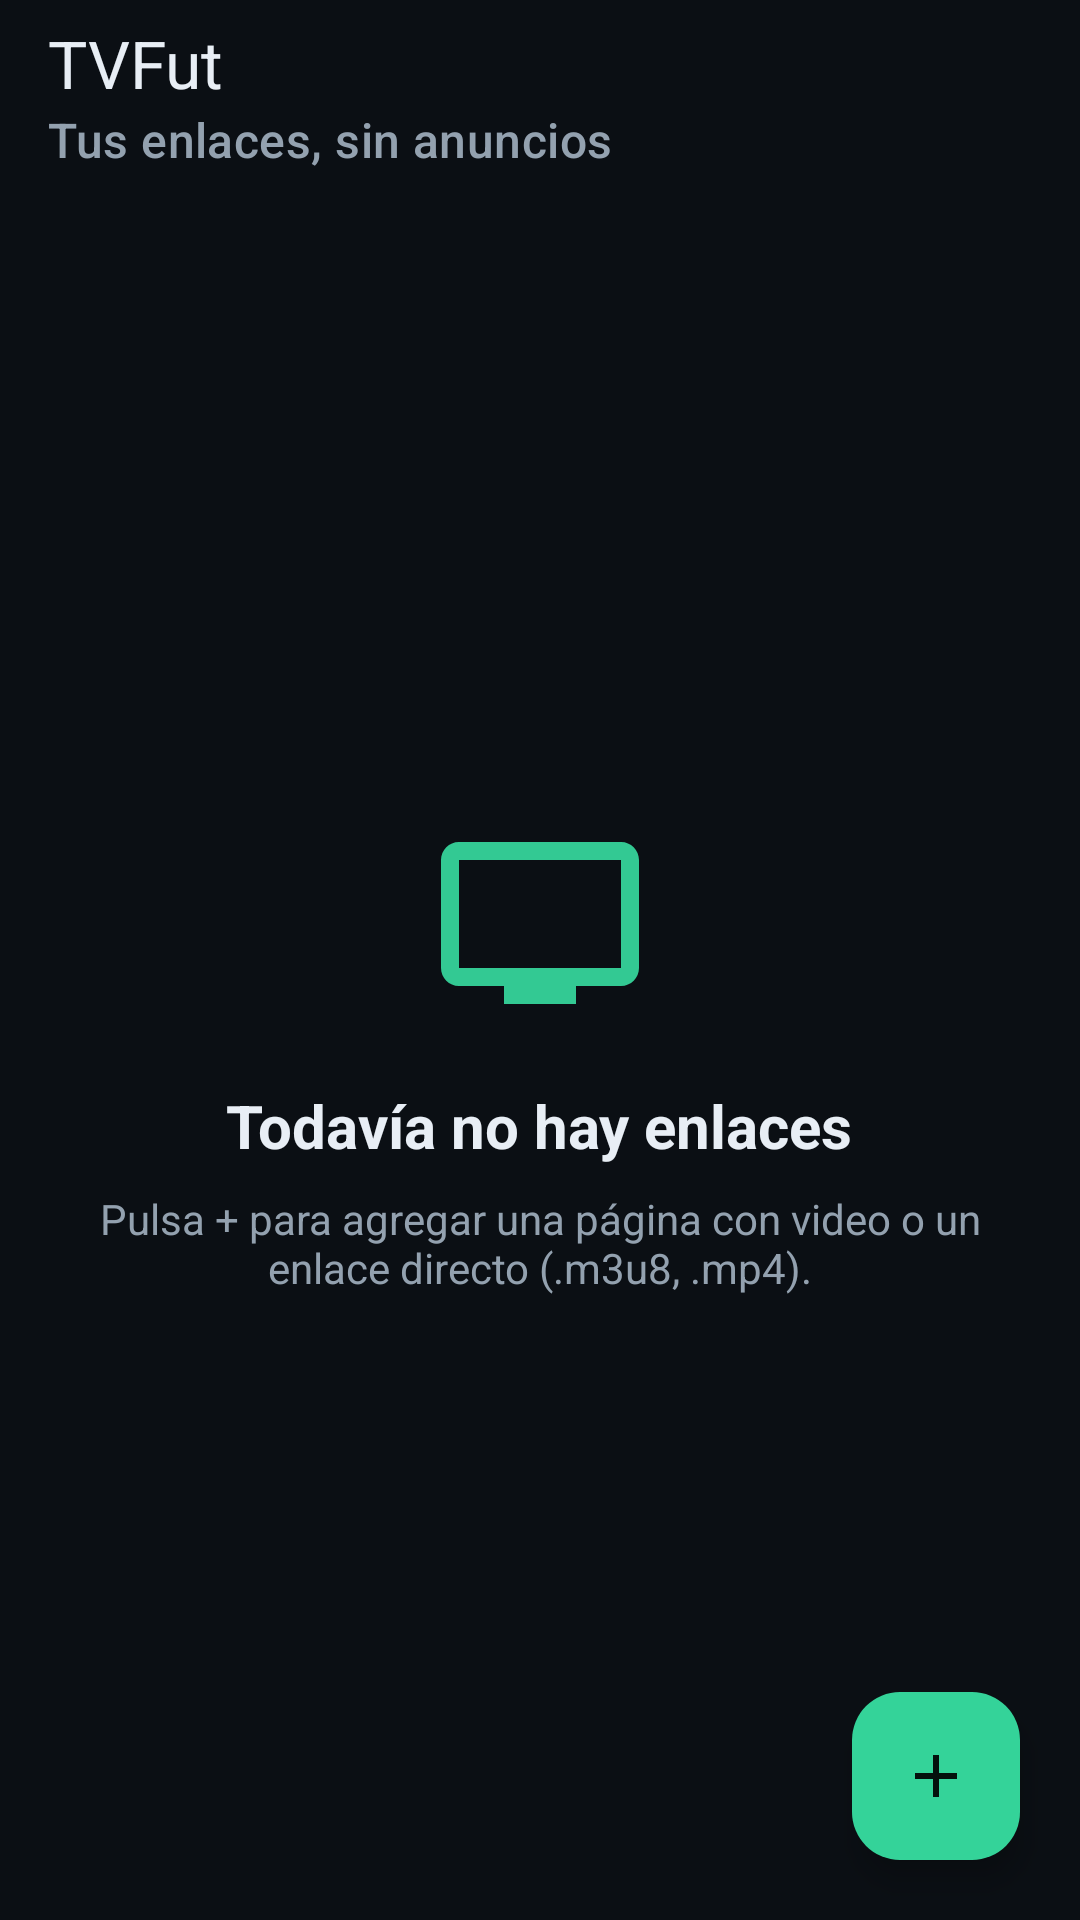

Locate icon controls on the screen. Image size 1080x1920, boxes as (left=x1, top=y1, right=x2, bottom=y2).
Agregar enlace: (left=852, top=1692, right=1020, bottom=1860)
